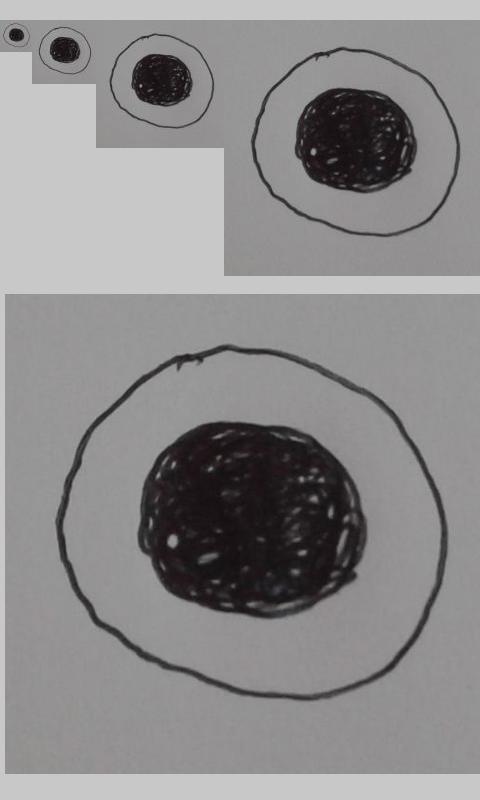radio_button: (54, 341, 451, 705), (249, 44, 463, 241), (109, 32, 215, 129), (38, 26, 93, 75), (2, 22, 30, 48)
